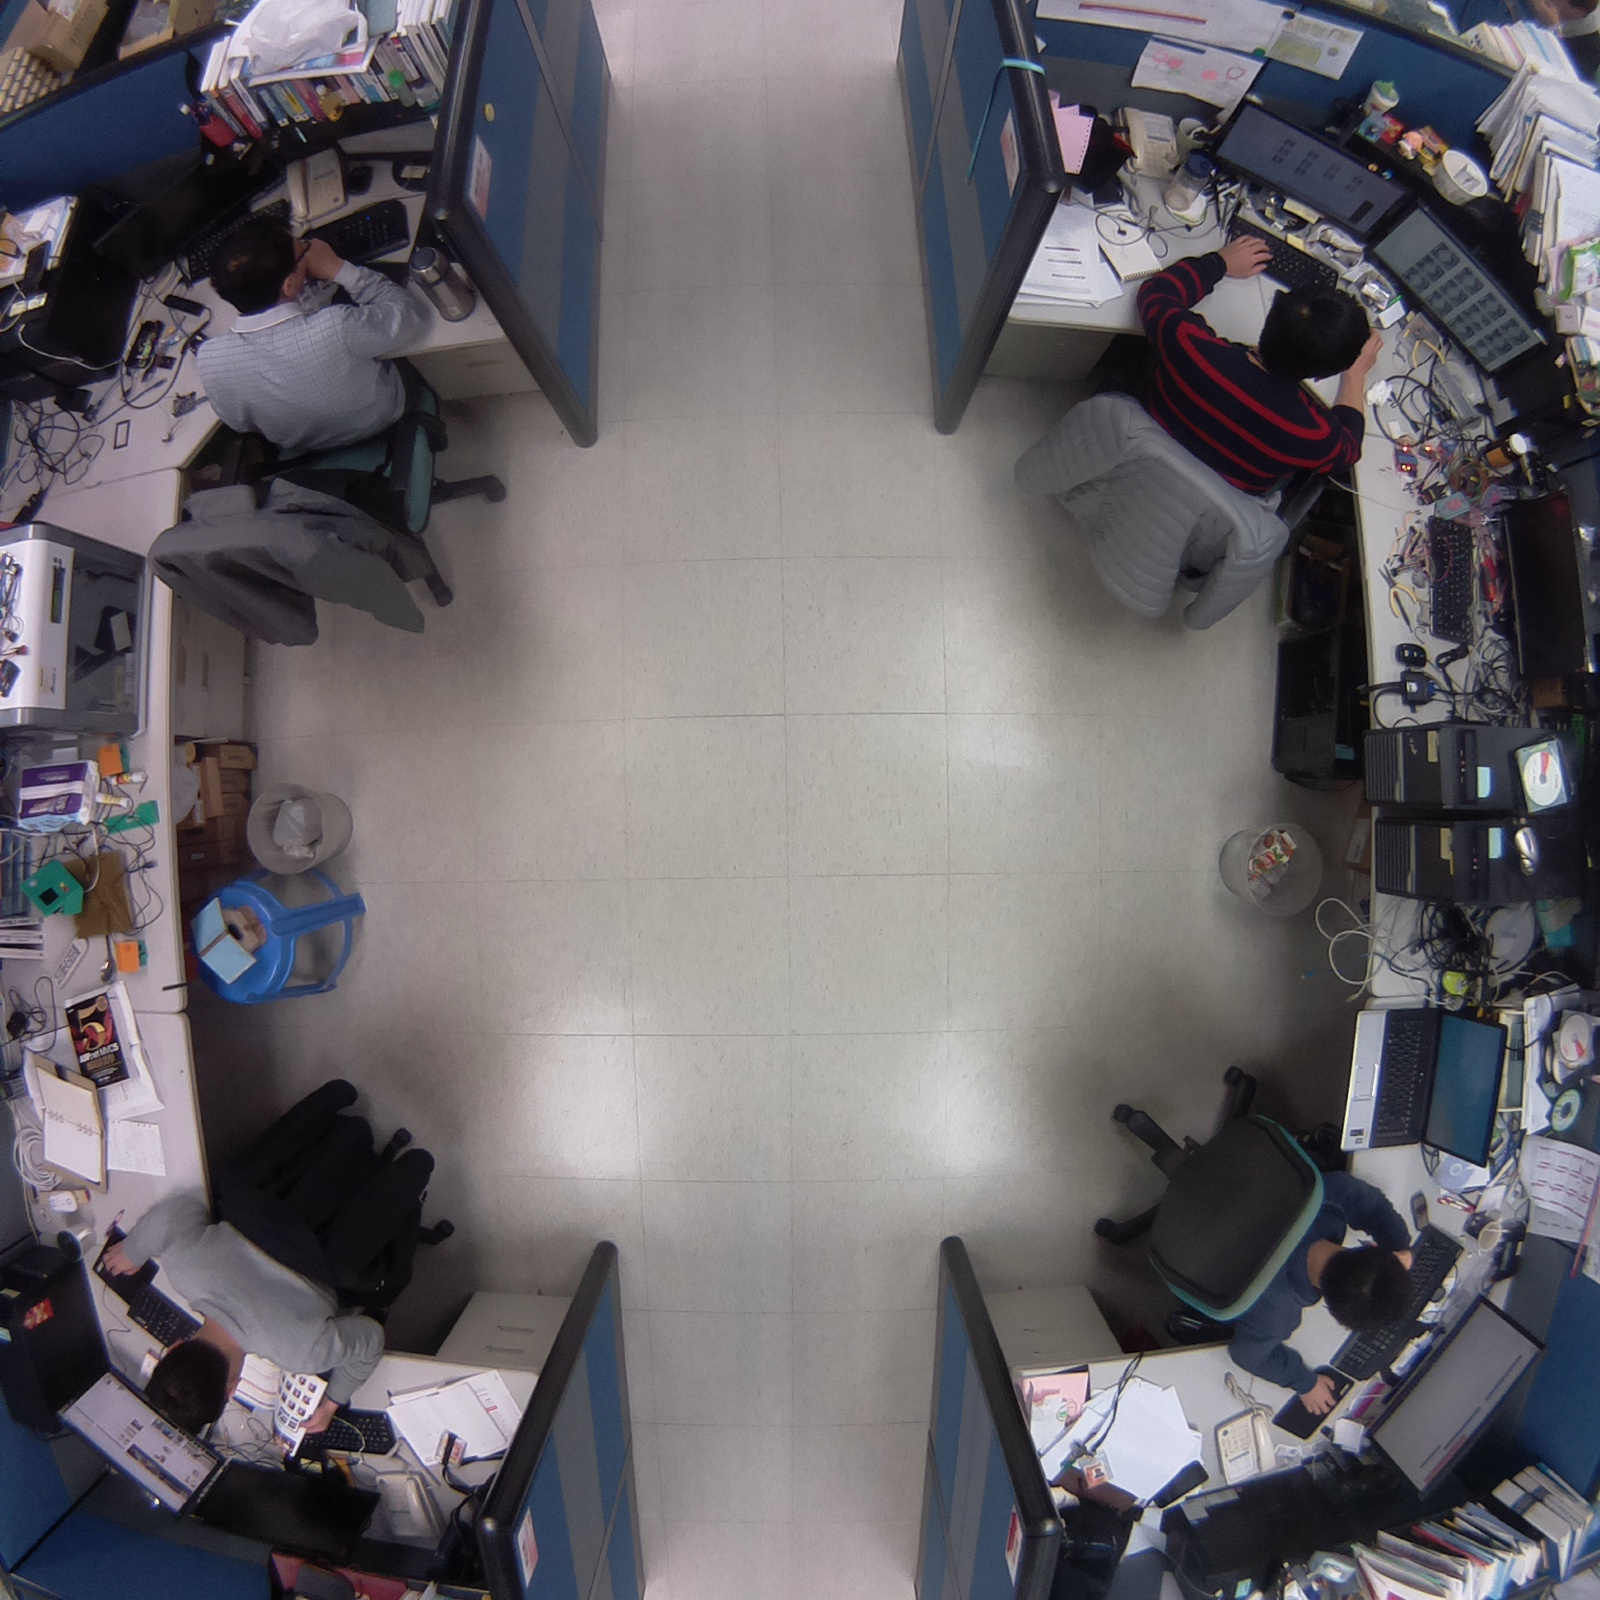head: (140, 1327, 253, 1442), (202, 210, 323, 317), (1253, 282, 1372, 387), (1315, 1240, 1421, 1342)
sitting: (135, 206, 522, 660), (991, 227, 1404, 642), (94, 1063, 468, 1460), (1063, 1034, 1424, 1419)
